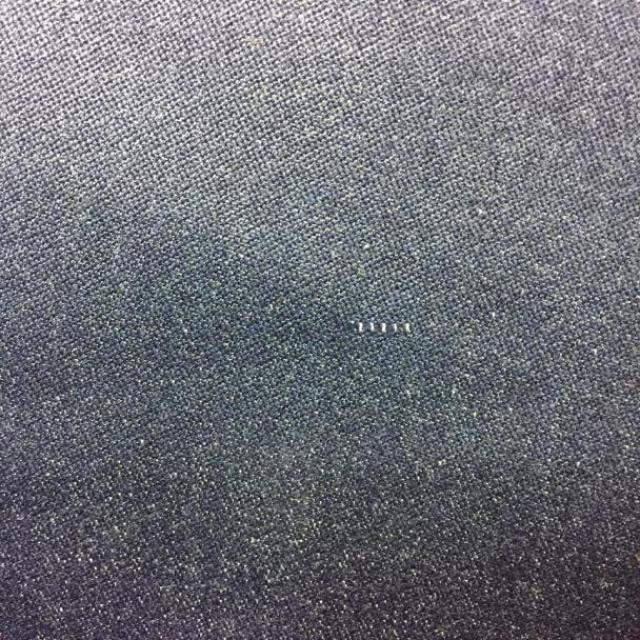Knot: (357, 323, 413, 335)
